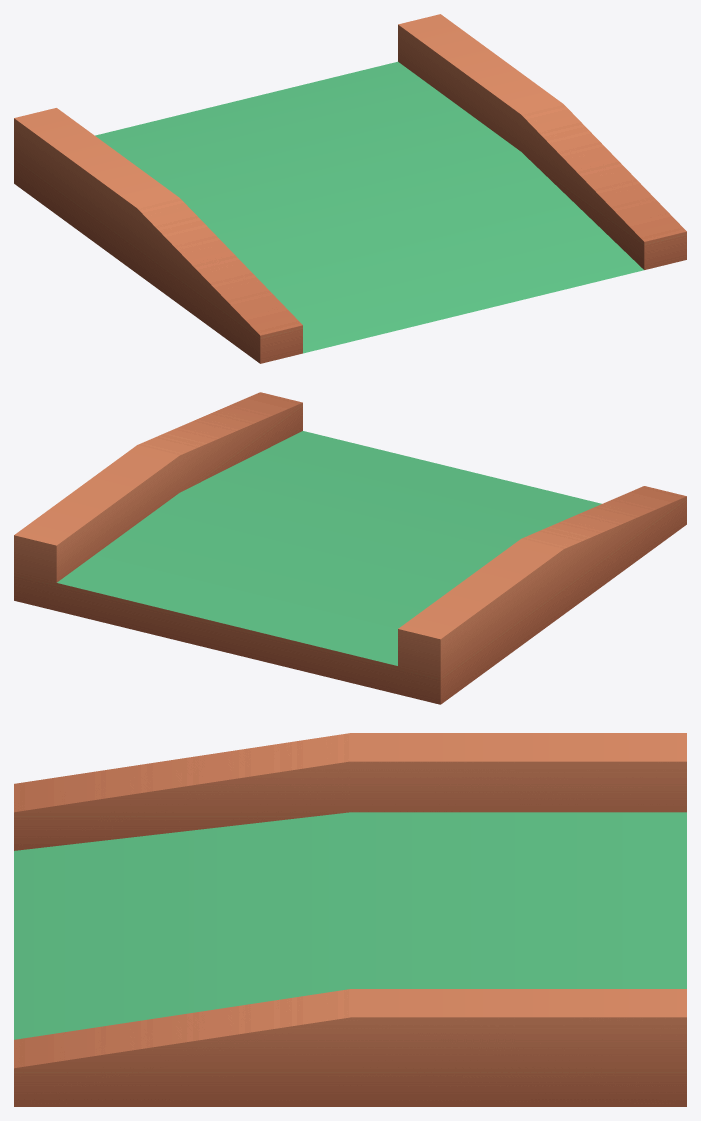
The model's file is start.glb.
3 renders of one model, top to bottom at view 1: azimuth 30°, elevation 25°; view 2: azimuth 150°, elevation 25°; view 3: azimuth 270°, elevation 25°, orthographic. The views are drawn at different scales.
Visible parts, largest first — view 1: start; view 2: start; view 3: start.
Boxes of the visible parts, bbox=[...] form: start: bbox=[14, 14, 686, 363]; start: bbox=[14, 392, 686, 704]; start: bbox=[14, 733, 686, 1106].
Size of the model in its own units: 0.9999 by 0.1467 by 0.9999.
1 material, 1 textured.
